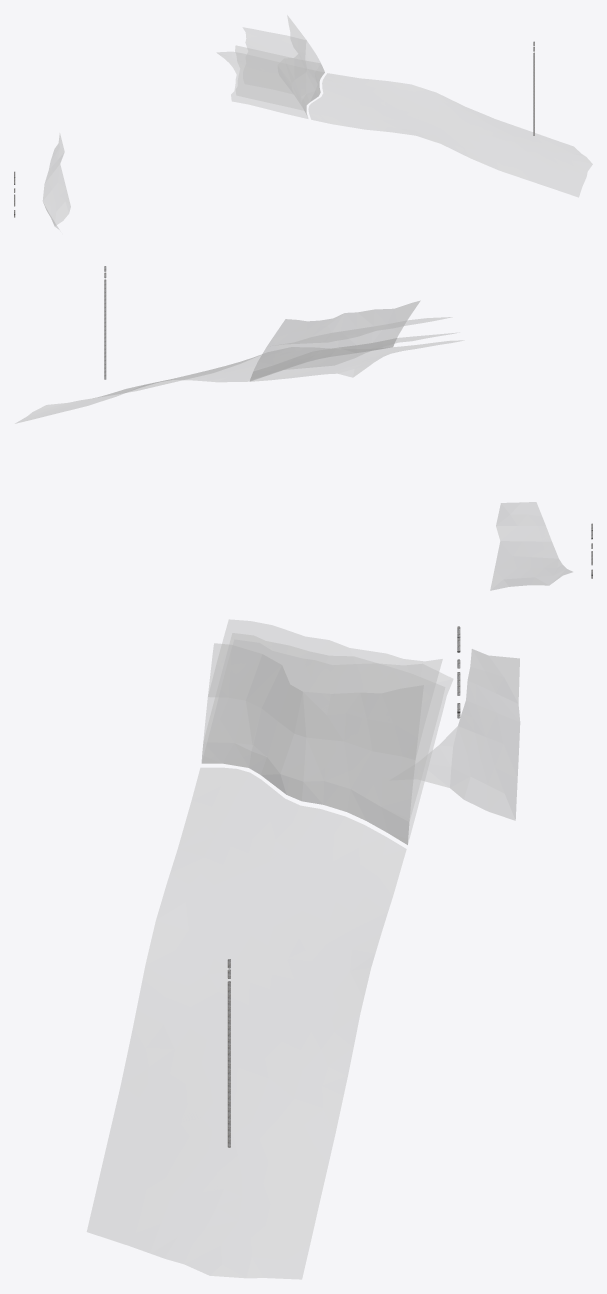
Rendered from suidao(3)_12.glb.
The picture shows the model from 3 angles, top to bottom: view 1: azimuth 30°, elevation 25°; view 2: azimuth 150°, elevation 25°; view 3: azimuth 270°, elevation 25°; orthographic projection. The views are drawn at different scales.
Parts seen in each view (by area): view 1: Layer:S2H F5 YOU 6, Layer:P2M F5 ZUO 2, Layer:P2Q F5 ZUO 1, Layer:S2H F5 ZUO 5, Layer:p2q you 8, Layer:F5 7, Layer:F5 11, Layer:P1L F5 ZUO 2, Layer:F5 1; view 2: Layer:p2q you 8, Layer:S2H F5 YOU 6, Layer:F5 7, Layer:F5 11, Layer:S2H F5 ZUO 5, Layer:P2Q F5 ZUO 1, Layer:P1L F5 ZUO 2, Layer:P2M F5 ZUO 2; view 3: Layer:S2H F5 YOU 6, Layer:P2M F5 ZUO 2, Layer:P2Q F5 ZUO 1, Layer:F5 7, Layer:p2q you 8, Layer:F5 11, Layer:P1L F5 ZUO 2, Layer:F5 1, Layer:S2H F5 ZUO 5.
Boxes of the visible parts, x1,y1,x2,y2 form: Layer:S2H F5 YOU 6: [308, 73, 592, 197]; Layer:P2M F5 ZUO 2: [242, 27, 306, 94]; Layer:P2Q F5 ZUO 1: [235, 45, 319, 110]; Layer:S2H F5 ZUO 5: [216, 51, 308, 118]; Layer:p2q you 8: [42, 133, 70, 229]; Layer:F5 7: [277, 15, 306, 93]; Layer:F5 11: [291, 41, 320, 109]; Layer:P1L F5 ZUO 2: [301, 64, 324, 115]; Layer:F5 1: [301, 64, 324, 113]; Layer:p2q you 8: [490, 502, 572, 590]; Layer:S2H F5 YOU 6: [15, 347, 328, 423]; Layer:F5 7: [267, 300, 420, 346]; Layer:F5 11: [254, 321, 406, 370]; Layer:S2H F5 ZUO 5: [251, 340, 464, 381]; Layer:P2Q F5 ZUO 1: [255, 332, 459, 371]; Layer:P1L F5 ZUO 2: [250, 338, 396, 381]; Layer:P2M F5 ZUO 2: [270, 317, 452, 346]; Layer:S2H F5 YOU 6: [87, 767, 406, 1279]; Layer:P2M F5 ZUO 2: [208, 619, 442, 759]; Layer:P2Q F5 ZUO 1: [204, 633, 445, 821]; Layer:F5 7: [208, 643, 423, 759]; Layer:p2q you 8: [421, 649, 520, 820]; Layer:F5 11: [203, 697, 415, 821]; Layer:P1L F5 ZUO 2: [201, 742, 409, 844]; Layer:F5 1: [202, 742, 408, 844]; Layer:S2H F5 ZUO 5: [266, 664, 453, 843].
Size of the model in its own units: 3164 by 1000 by 1141.
Materials: 12 (2 with a texture image).
